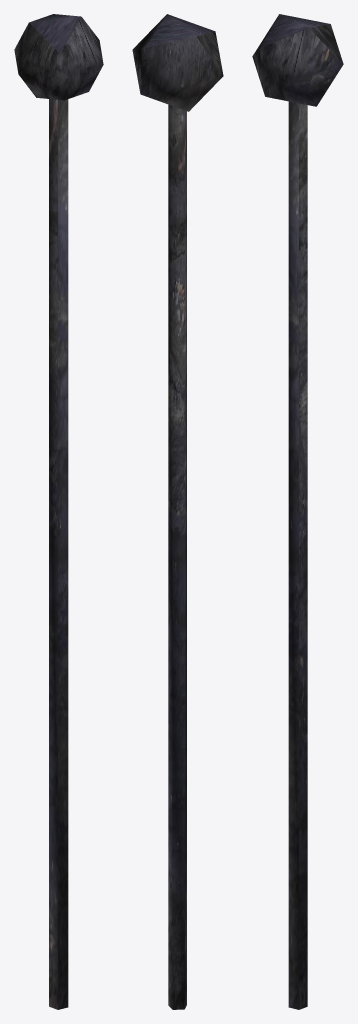
File: pin.obj
3 renders of one model, left to right at view 1: azimuth 30°, elevation 25°; view 2: azimuth 150°, elevation 25°; view 3: azimuth 330°, elevation 25°, orthographic.
Parts seen in each view (by area): view 1: Cylinder; view 2: Cylinder; view 3: Cylinder.
Boxes of the visible parts, box(x1,y1,x2,y2) form: Cylinder: box(14, 14, 103, 1009); Cylinder: box(132, 14, 223, 1009); Cylinder: box(252, 14, 343, 1009).
Bounding box in the file's own units: 0.0989 × 1.08 × 0.0843.
